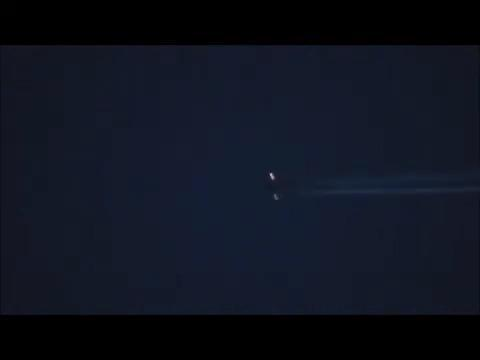Plane: (234, 153, 479, 220)
